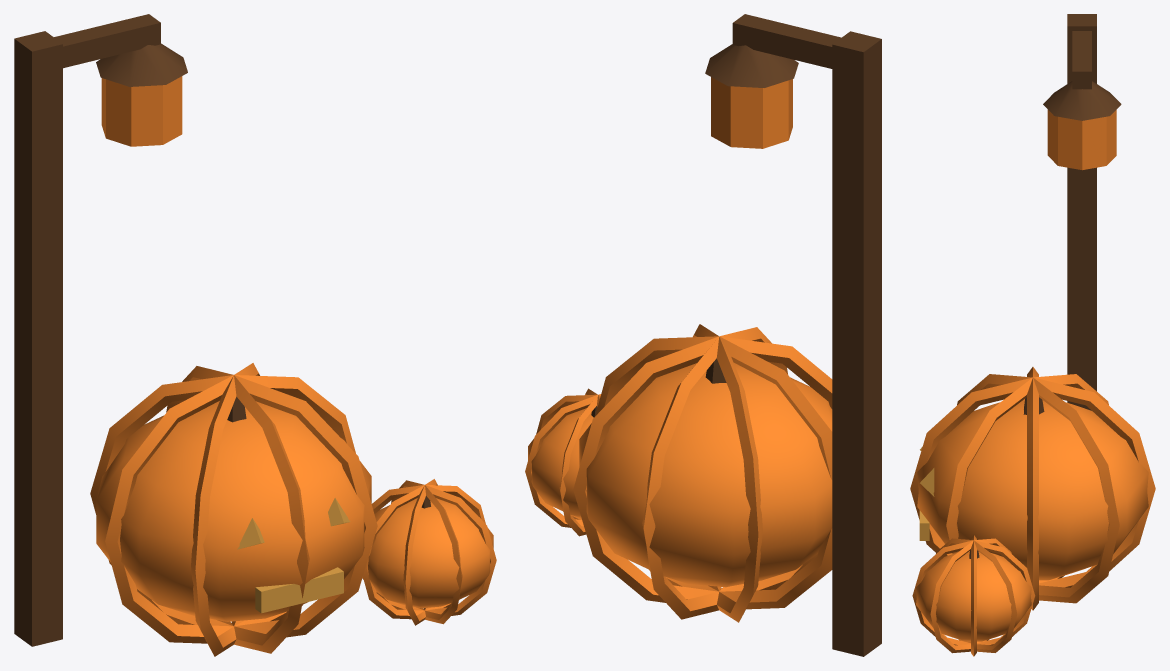
File: PR_Decor_KabakFener.fbx
3 renders of one model, left to right at view 1: azimuth 30°, elevation 25°; view 2: azimuth 150°, elevation 25°; view 3: azimuth 270°, elevation 25°, orthographic. The views are drawn at different scales.
Visible parts, largest first — view 1: PR_Decor_KabakFener; view 2: PR_Decor_KabakFener; view 3: PR_Decor_KabakFener.
Part boxes in pixels (x1,y1,x2,y2): PR_Decor_KabakFener: (14, 14, 496, 656); PR_Decor_KabakFener: (525, 14, 881, 656); PR_Decor_KabakFener: (910, 14, 1155, 656).
Bounding box in the file's own units: 0.7746 × 1.15 × 0.4985.
